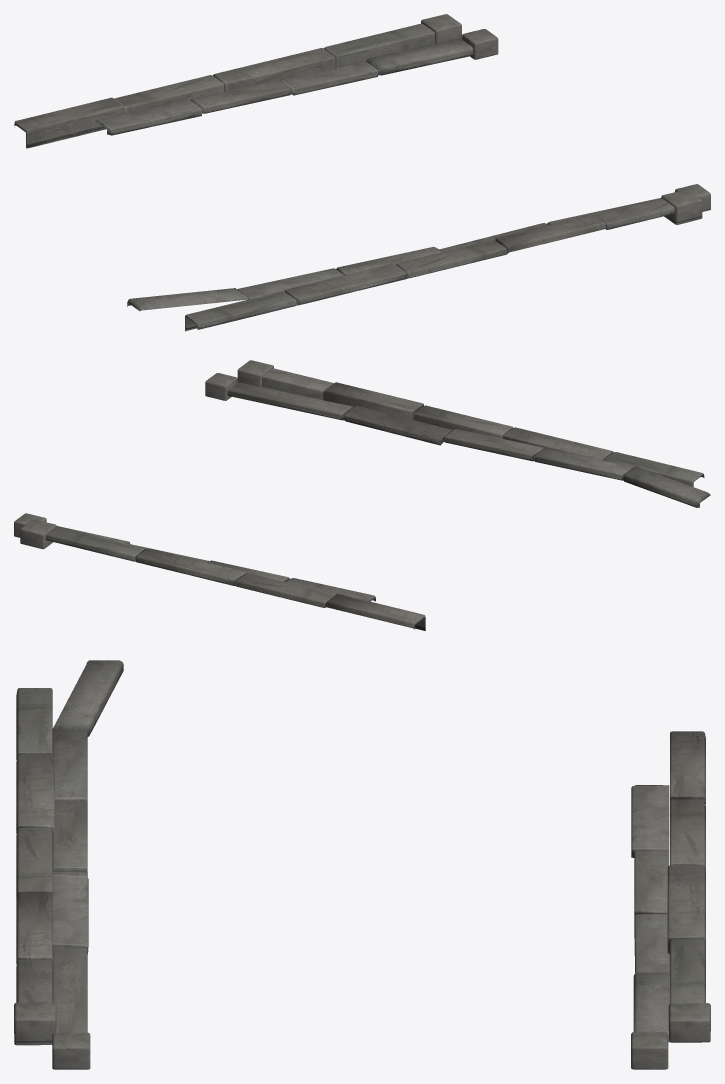
The model's file is SM_ENV_LKNVLD_Ground_Left_SideTrimOuter_03.FBX.
The picture shows the model from 3 angles, top to bottom: view 1: azimuth 30°, elevation 25°; view 2: azimuth 150°, elevation 25°; view 3: azimuth 270°, elevation 25°; orthographic projection. The views are drawn at different scales.
Visible parts, largest first — view 1: SM_ENV_LKNVLD_Ground_Left_SideTrimOuter_03; view 2: SM_ENV_LKNVLD_Ground_Left_SideTrimOuter_03; view 3: SM_ENV_LKNVLD_Ground_Left_SideTrimOuter_03.
Part boxes in pixels (left/top/right/bottom): SM_ENV_LKNVLD_Ground_Left_SideTrimOuter_03: left=14, top=14, right=710, bottom=331; SM_ENV_LKNVLD_Ground_Left_SideTrimOuter_03: left=14, top=360, right=710, bottom=630; SM_ENV_LKNVLD_Ground_Left_SideTrimOuter_03: left=14, top=660, right=710, bottom=1069.
Size of the model in its own units: 1128 by 55.37 by 894.
